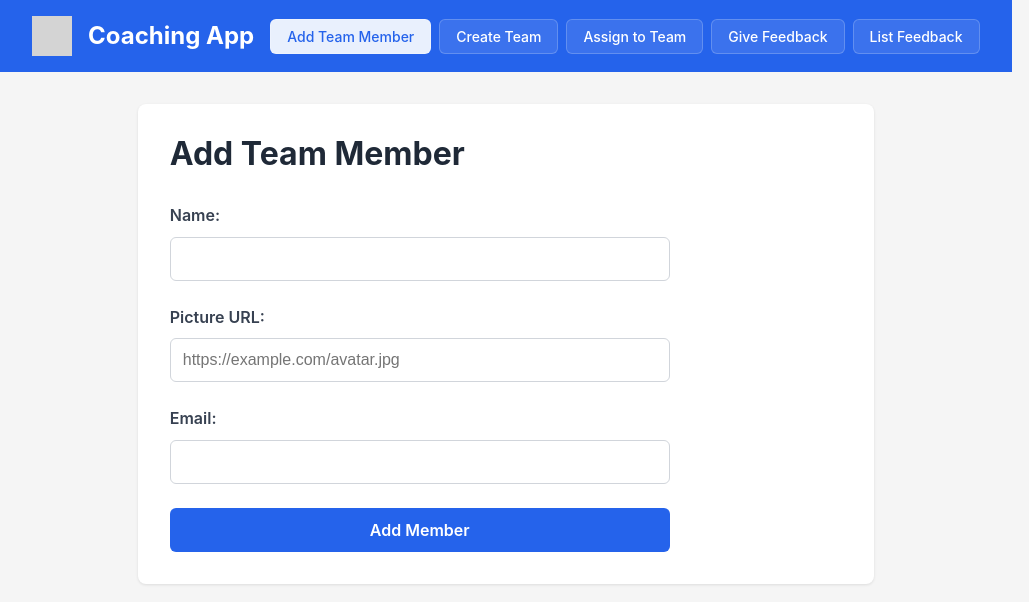
Scenario: App › should navigate to Assign to Team page when button is clicked
Click the button "Assign to Team".
click(635, 36)  # box [566,18,703,54]
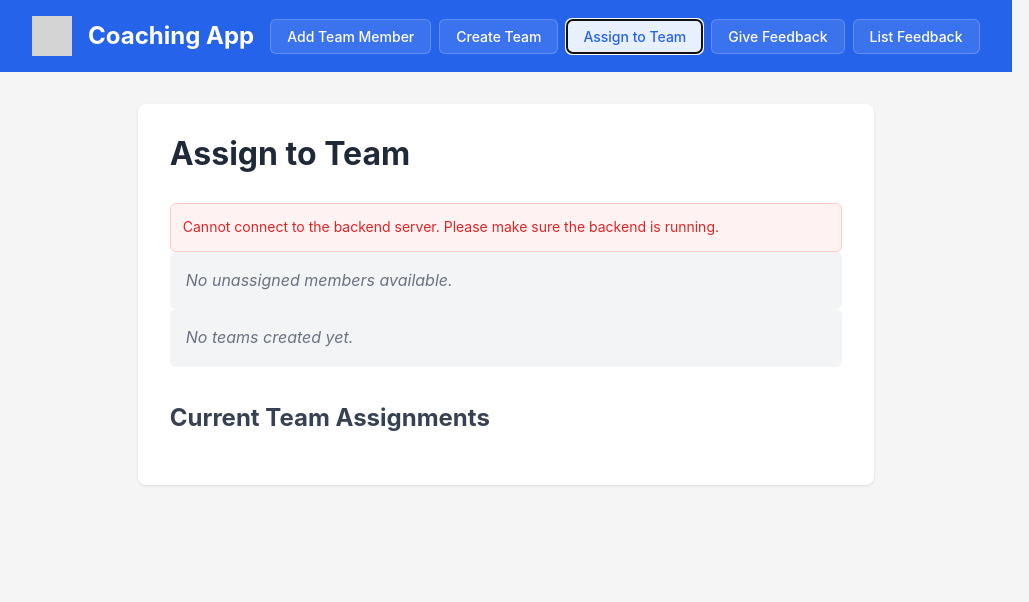
expect the heading "Assign to Team" is shown: met, box [170,134,410,173]
